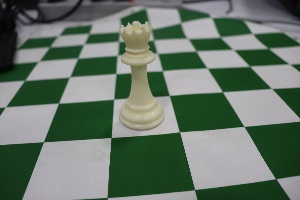white_queen: (106, 12, 170, 138)
